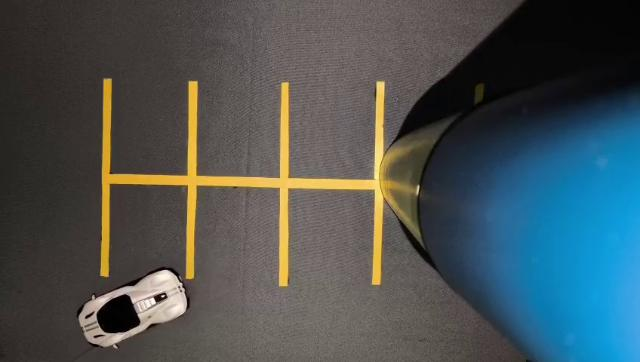toy_car: (56, 259, 216, 351)
